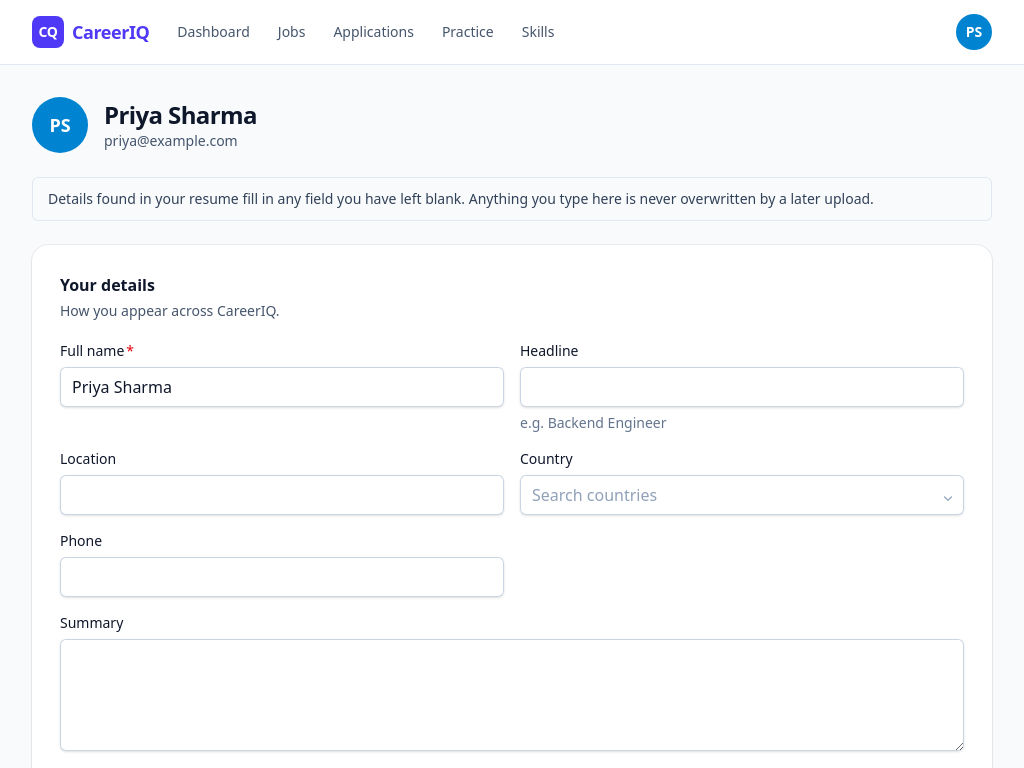
Test: ProfilePage › updates the header avatar without a reload when the name changes
This screenshot has width=1024, height=768.
Expected: the button with aria-label "Priya Sharma" is shown, [956, 14, 992, 50]
Replace the text in the field labelled "Full name*" with "Ananya Iyer" at (282, 387), box [60, 367, 504, 407]
(page scrolled)
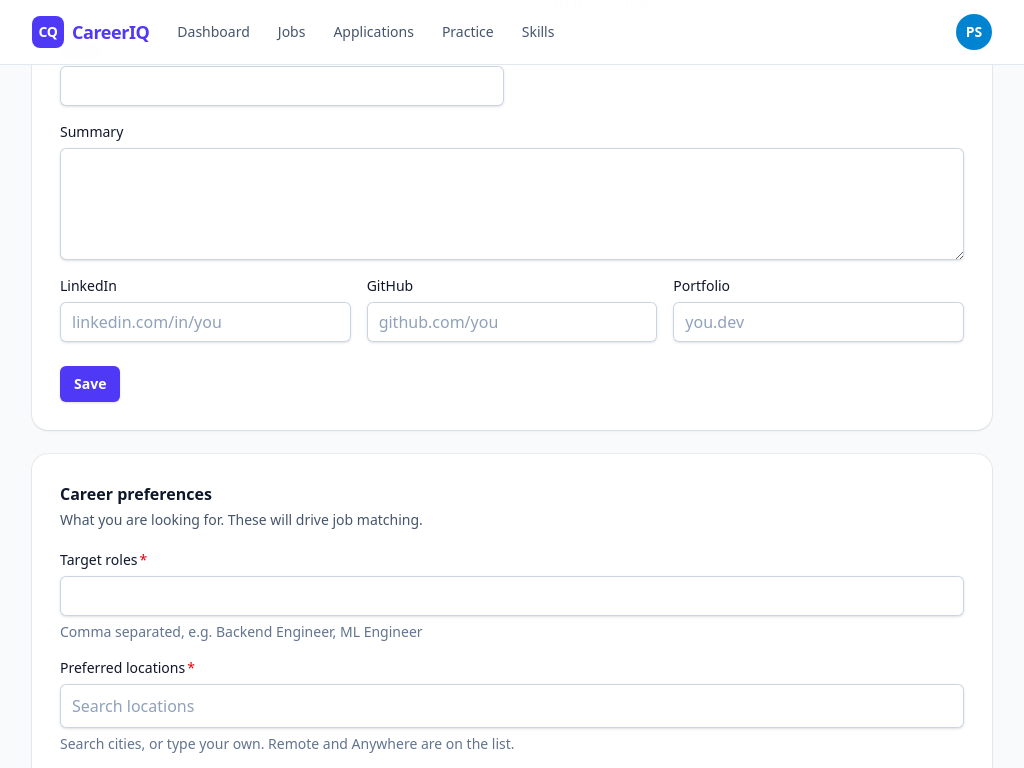
Click the button "Save" at (90, 384), box [60, 366, 120, 402]
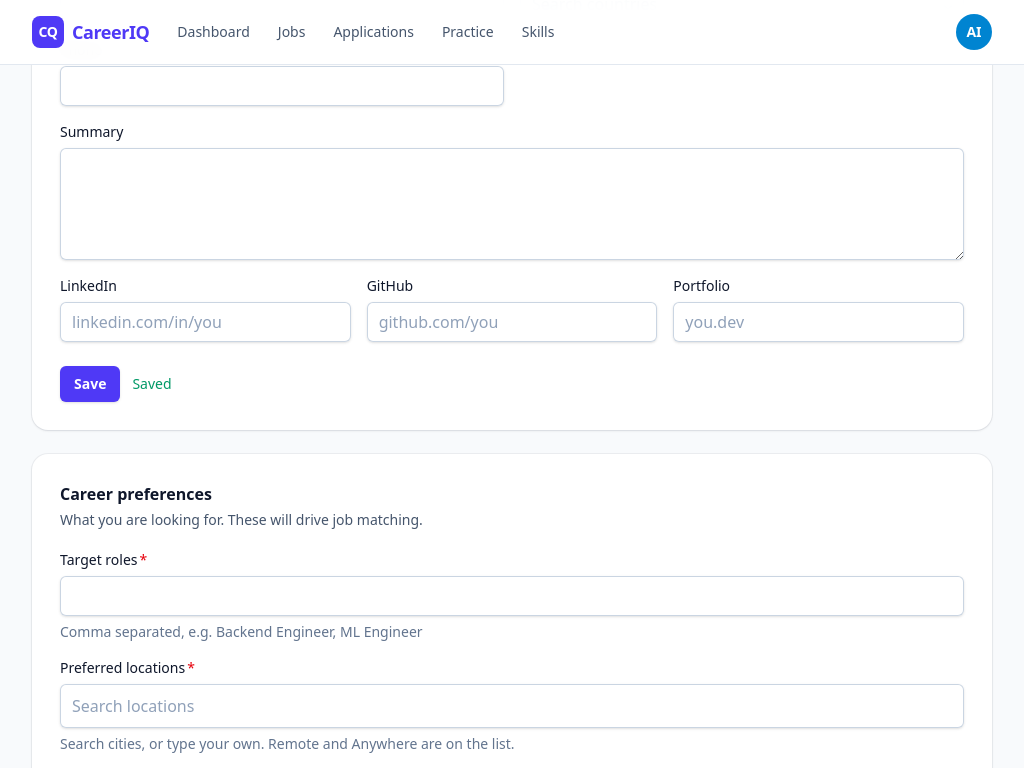
Result: the button with aria-label "Ananya Iyer" is shown at [956, 14, 992, 50]
